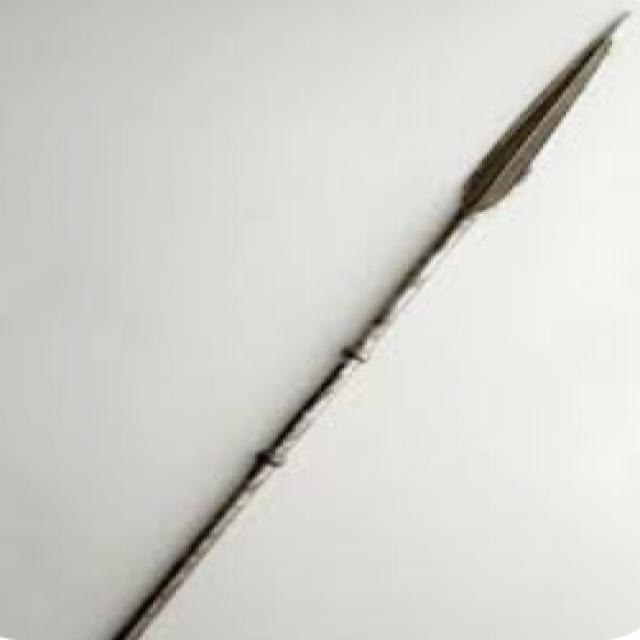spear: (86, 13, 632, 635)
